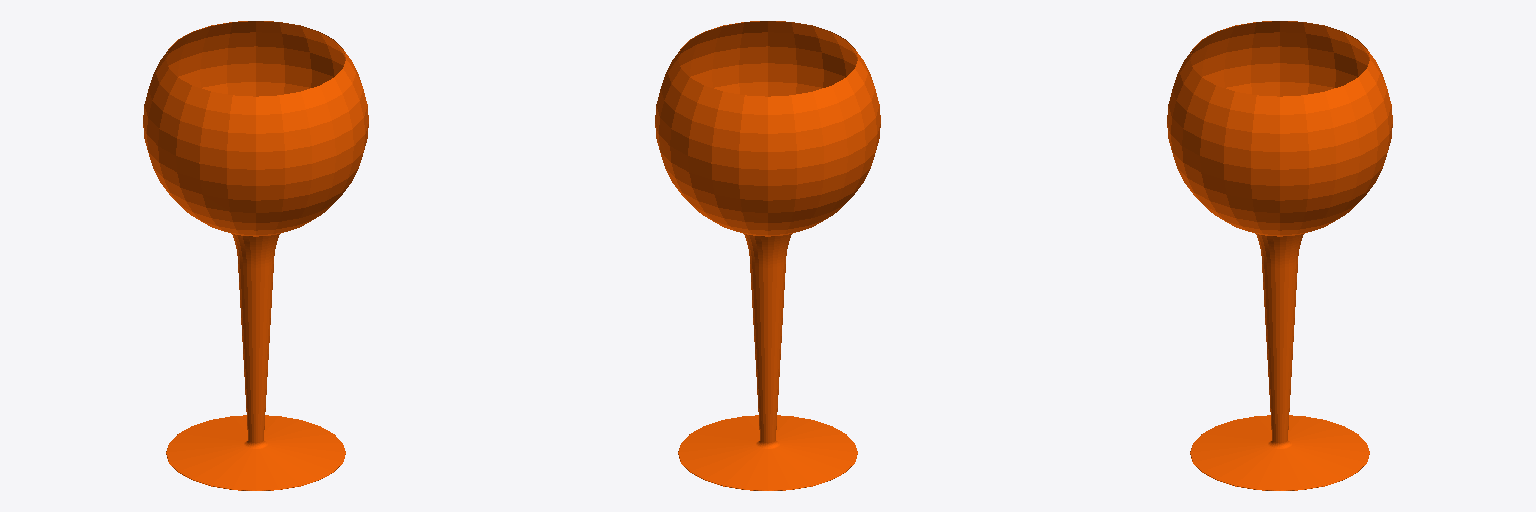
robot.urdf — WineGlass_2d89d2b3b6749a9d99fbba385cc0d41d:
<?xml version="1.0" ?>
<robot name="WineGlass_2d89d2b3b6749a9d99fbba385cc0d41d">
   <material name="obj_color">
      <color rgba="1.0 0.423529411765 0.0392156862745 1.0"/>
   </material>
   <link name="top">
      <inertial>
         <origin rpy="0.0001956997191052746 0.0004376177921568766 0.0004376319576283084" xyz="-6.131998572728551e-05 -6.713682156631039e-05 0.01629178708074486"/>
         <mass value="0.3476710498349385"/>
         <inertia ixx="0.0004376305798232476" ixy="-4.195612704423612e-09" ixz="1.640963591831946e-08" iyy="0.0004376191687306305" iyz="-5.349454073870913e-09" izz="0.0001956997203365814"/>
      </inertial>
      <visual>
         <origin rpy="0 0 0" xyz="0 0 0"/>
         <geometry>
            <mesh filename="top_watertight_tiny.stl" scale="1 1 1"/>
         </geometry>
         <material name="obj_color"/>
      </visual>
      <collision>
         <origin rpy="0 0 0" xyz="0 0 0"/>
         <geometry>
            <mesh filename="top_watertight_tiny.obj" scale="1 1 1"/>
         </geometry>
      </collision>
   </link>
   <link name="bottom">
      <inertial>
         <origin rpy="1.019686824692373e-06 1.026485621403699e-06 2.031966655914952e-06" xyz="8.347735291952824e-05 1.554217205747439e-05 -0.09015304249060907"/>
         <mass value="0.006228988413121992"/>
         <inertia ixx="1.024777441211028e-06" ixy="2.949769034901945e-09" ixz="-8.983821935926302e-10" iyy="1.021396074907915e-06" iyz="-5.184554112713952e-10" izz="2.031965585892083e-06"/>
      </inertial>
      <visual>
         <origin rpy="0 0 0" xyz="0 0 0"/>
         <geometry>
            <mesh filename="bottom_watertight_tiny.stl" scale="1 1 1"/>
         </geometry>
         <material name="obj_color"/>
      </visual>
      <collision>
         <origin rpy="0 0 0" xyz="0 0 0"/>
         <geometry>
            <mesh filename="bottom_watertight_tiny.obj" scale="1 1 1"/>
         </geometry>
      </collision>
   </link>
   <link name="world"/>
   <joint name="world_to_base" type="fixed">
      <origin xyz="0 0 0"/>
      <axis xyz="0 0 0"/>
      <parent link="world"/>
      <child link="bottom"/>
   </joint>
   <joint name="rotation" type="revolute">
      <origin xyz="0 0 0"/>
      <axis xyz="0 0 -1"/>
      <parent link="bottom"/>
      <child link="top"/>
      <dynamics damping="1.0" friction="1.0"/>
      <limit effort="0.1" velocity="0.1" lower="0" upper="0.001"/>
   </joint>
</robot>

--- Facts derived from the render (not from the file) ---
Views: 3 orthographic renders of the robot side by side, from view 1: azimuth 30°, elevation 25°; view 2: azimuth 150°, elevation 25°; view 3: azimuth 270°, elevation 25°.
Model WineGlass_2d89d2b3b6749a9d99fbba385cc0d41d with 3 links and 2 joints (1 revolute, 1 fixed), rooted at world, posed all joints at 0.
Visible links, largest first — view 1: top, bottom; view 2: top, bottom; view 3: top, bottom.
Link boxes in pixels (left/top/right/bottom): top: left=143, top=21, right=368, bottom=448; bottom: left=166, top=415, right=345, bottom=490; top: left=655, top=21, right=880, bottom=448; bottom: left=678, top=415, right=857, bottom=490; top: left=1167, top=21, right=1392, bottom=448; bottom: left=1190, top=415, right=1369, bottom=490.
Bounding box of the posed robot: 0.0798 × 0.0798 × 0.1537 m (x, y, z).
Meshes: 2 distinct files referenced, 2 mesh visuals loaded (2 binary STL).